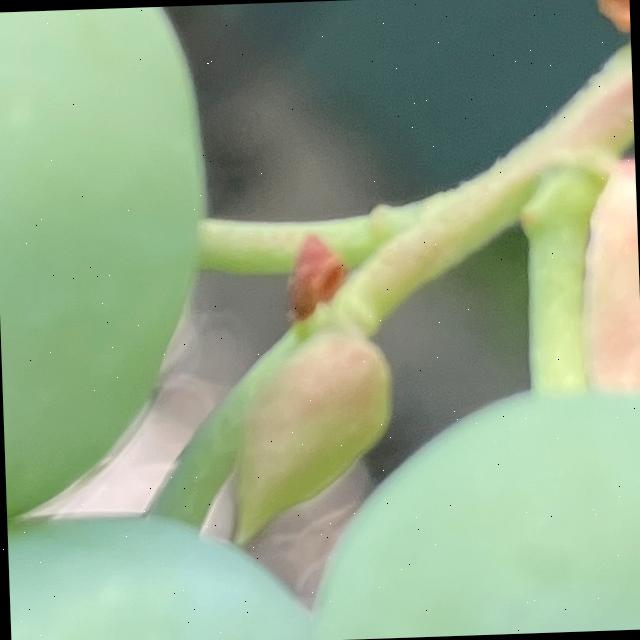Blueberries: (0, 4, 218, 541), (287, 375, 640, 640)
